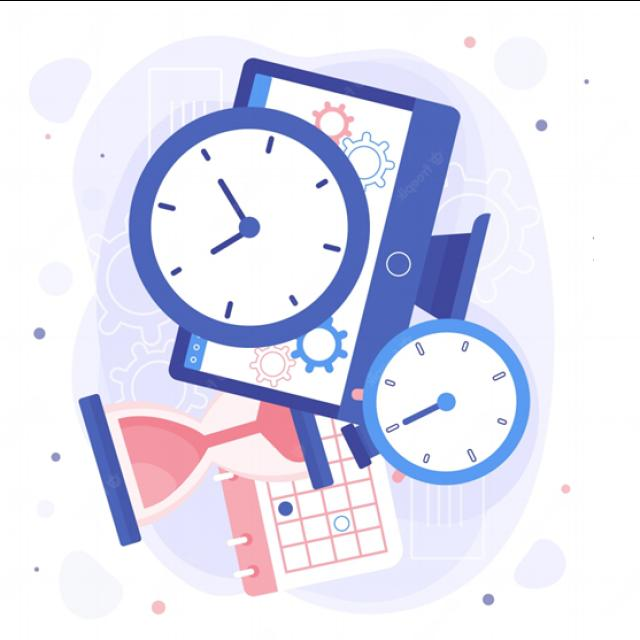clock: (84, 44, 524, 521)
